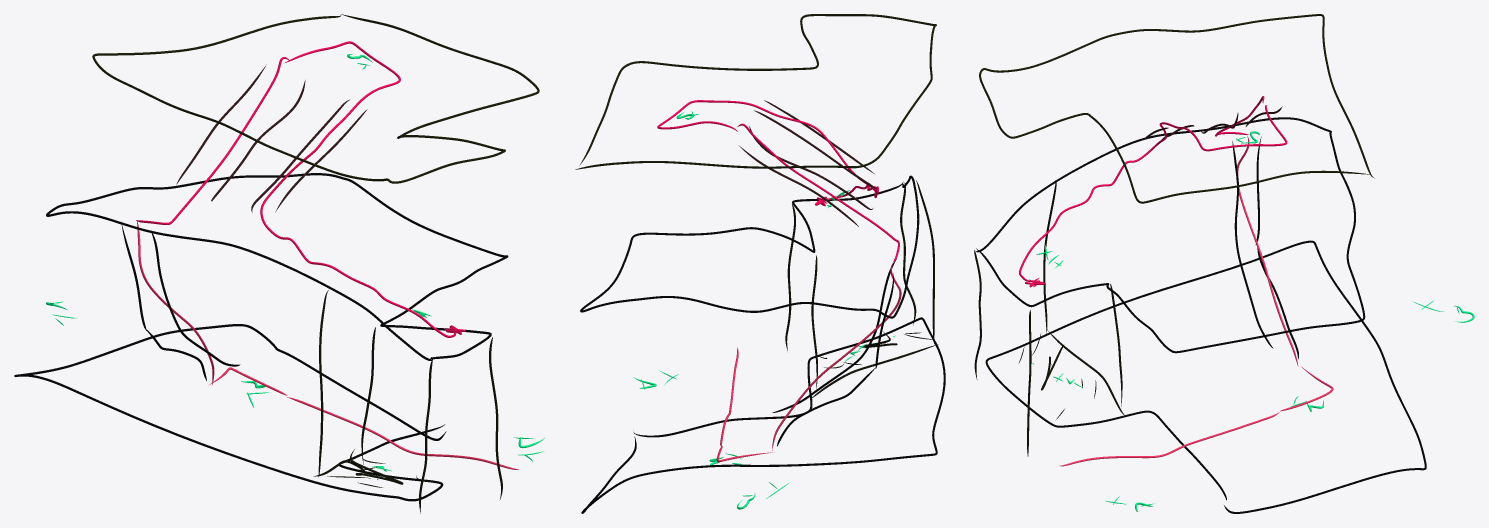
The picture shows the model from 3 angles, left to right: view 1: azimuth 30°, elevation 25°; view 2: azimuth 150°, elevation 25°; view 3: azimuth 270°, elevation 25°; orthographic projection. The views are drawn at different scales.
Parts seen in each view (by area): view 1: s.0042, s.0047, s.0023, s.0055, s.0048, s.0039; view 2: s.0047, s.0042, s.0023, s.0055, s.0045, s.0048, s.0044; view 3: s.0023, s.0047, s.0042, s.0055, s.0039, s.0045.
Part boxes in pixels (x1,y1,x2,y2): s.0042: (46,173,508,360); s.0047: (92,14,539,183); s.0023: (14,324,446,501); s.0055: (260,41,455,337); s.0048: (136,57,289,224); s.0039: (287,397,518,469); s.0047: (575,14,936,169); s.0042: (580,175,919,318); s.0023: (581,317,945,513); s.0055: (657,100,878,200); s.0045: (772,262,901,450); s.0048: (737,123,899,261); s.0044: (772,259,896,412); s.0023: (985,240,1426,513); s.0047: (979,14,1374,203); s.0042: (976,117,1365,353); s.0055: (1019,105,1287,281); s.0039: (1059,412,1279,466); s.0045: (1236,135,1298,366).
Bounding box in the file's own units: 70.69 × 80.01 × 65.91.
